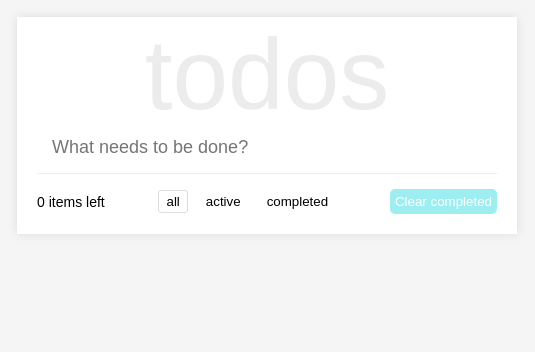
Test case: Todo App › can filter active and completed todos
The image size is (535, 352).
Step 1. Type "Task 1" into the field with placeholder "What needs to be done?" → (267, 148), box [37,122,497,174]
Step 2. Submit the form from the field with placeholder "What needs to be done?", box [37,122,497,174]
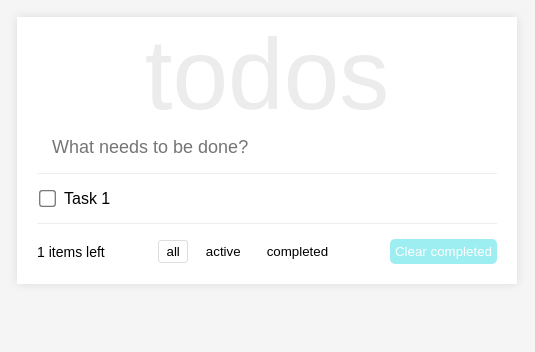
Step 3. Type "Task 2" into the field with placeholder "What needs to be done?" → (267, 148), box [37,122,497,174]
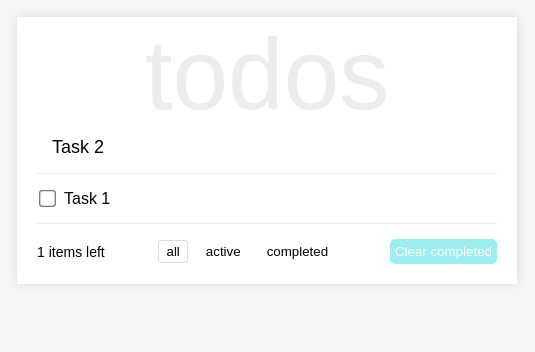
Step 4. Submit the form from the field with placeholder "What needs to be done?", box [37,122,497,174]
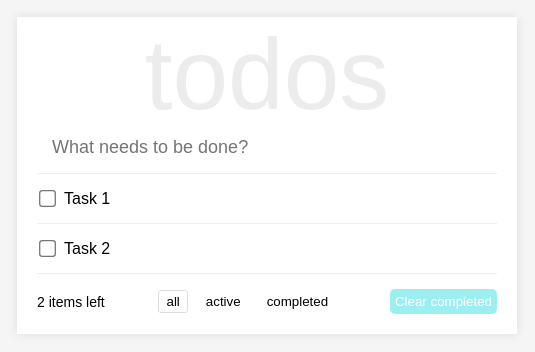
Step 5. Click the checkbox next to "Task 2" → (47, 248), box [39,240,56,257]
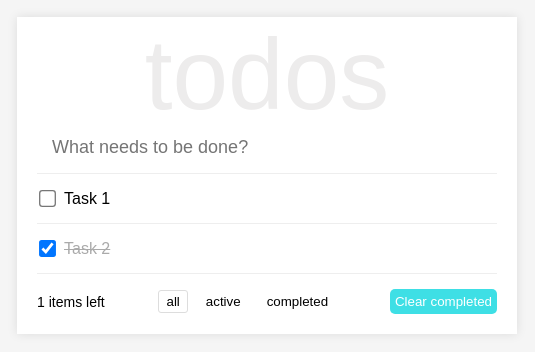
Step 6. Click the button "active" → (223, 302), box [198,290,249,313]
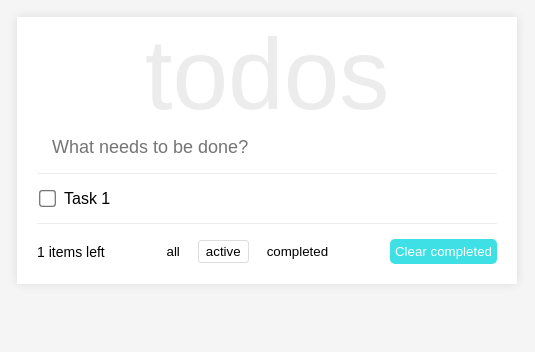
Now the text "Task 1" is shown, box [64,190,110,208]
Now the text "Task 2" is gone
Step 7. Click the button "completed" → (297, 252), box [259,240,336,263]
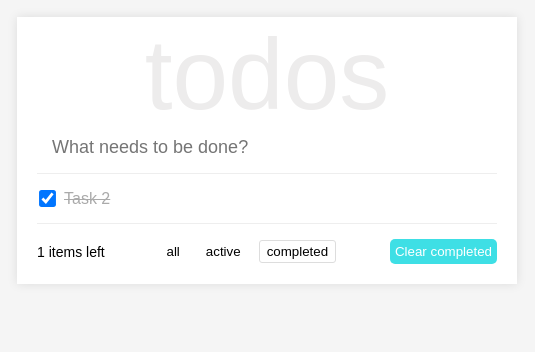
Now the text "Task 2" is shown, box [64,190,110,208]
Now the text "Task 1" is gone
